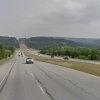Car: (23, 54, 37, 68)
